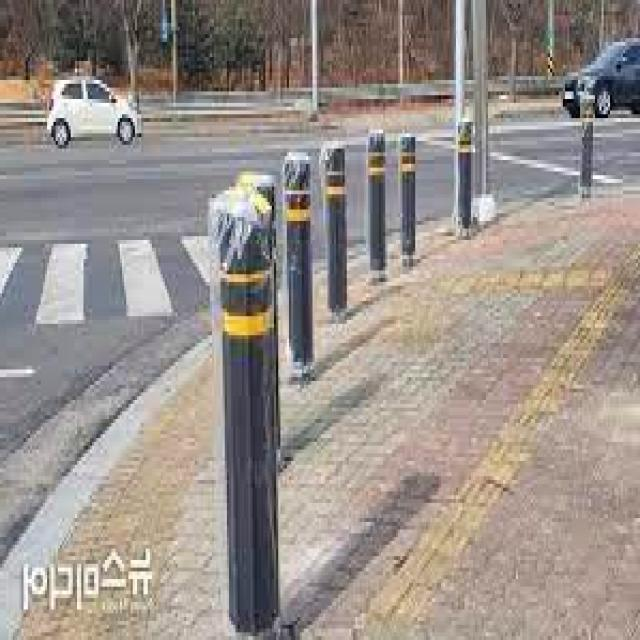bollard: (217, 181, 274, 634), (285, 146, 312, 407), (320, 134, 349, 336), (451, 107, 479, 247), (568, 90, 600, 207), (366, 123, 387, 288), (398, 123, 419, 270)
